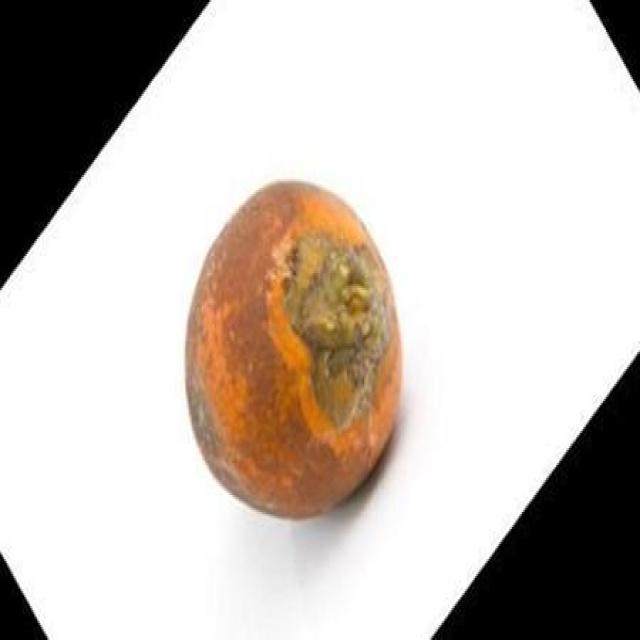good: (183, 181, 405, 523)
